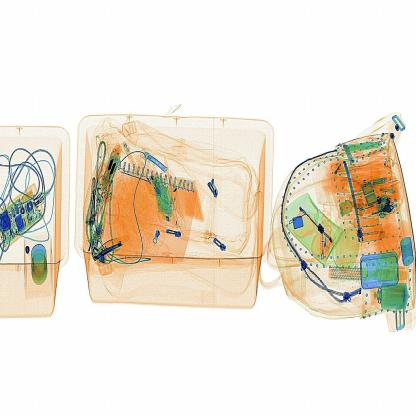pliers: (92, 232, 140, 265)
